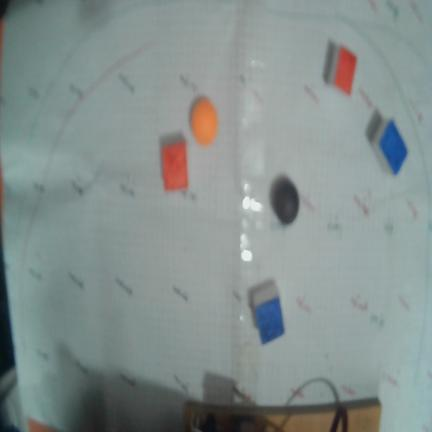circle_blue: (270, 175, 300, 225)
circle_orange: (190, 96, 218, 146)
rectangle_blue: (379, 118, 408, 173)
rectangle_orange: (334, 44, 358, 94)
square_blue: (253, 296, 286, 347)
square_orange: (161, 141, 188, 190)
